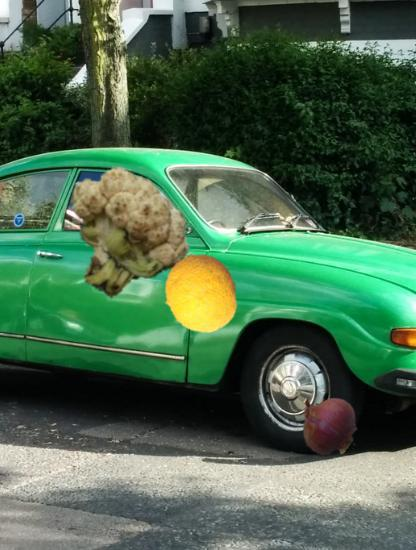Cantaloupe: (160, 254, 240, 334)
Cauliflower: (55, 165, 188, 298)
Onion: (295, 392, 359, 456)
